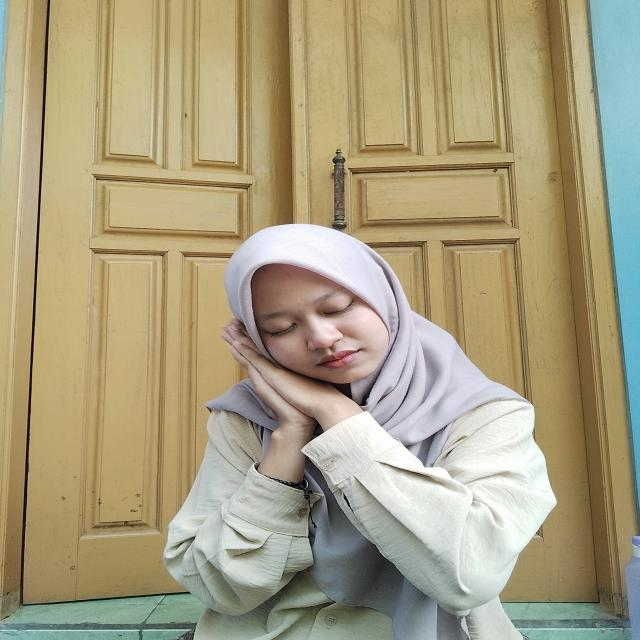tidur: (210, 316, 368, 480)
